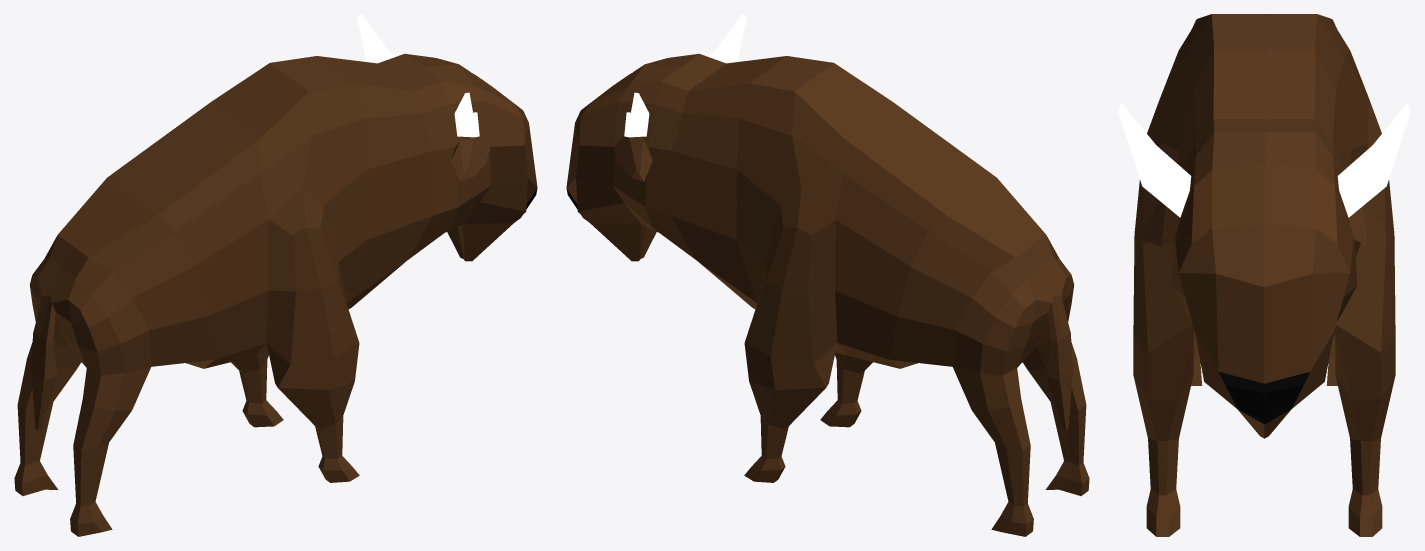
The model's file is bison.glb.
The picture shows the model from 3 angles, left to right: view 1: azimuth 30°, elevation 25°; view 2: azimuth 150°, elevation 25°; view 3: azimuth 270°, elevation 25°; orthographic projection. The views are drawn at different scales.
Parts seen in each view (by area): view 1: Plane; view 2: Plane; view 3: Plane.
Part boxes in pixels (box(x1,y1,x2,y2)): Plane: box(14, 14, 537, 536); Plane: box(566, 14, 1089, 536); Plane: box(1118, 14, 1410, 536).
Size of the model in its own units: 137 by 102 by 53.12.
